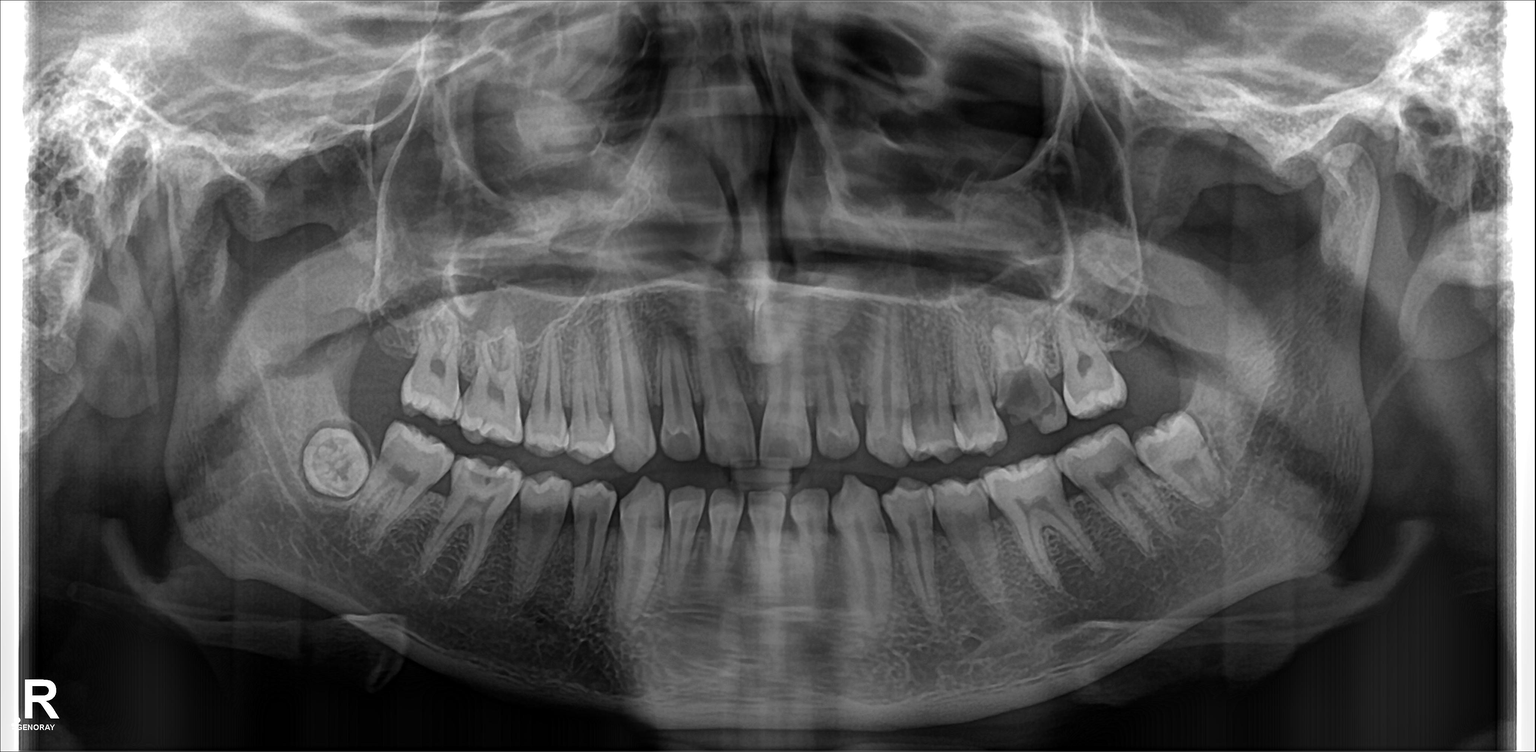Dental Caries: (991, 367, 1055, 416), (525, 504, 554, 530)
Impacted Third Molar: (1143, 421, 1231, 493), (298, 434, 371, 490)
Missing Tooth: (1119, 302, 1181, 401), (361, 307, 417, 408)
